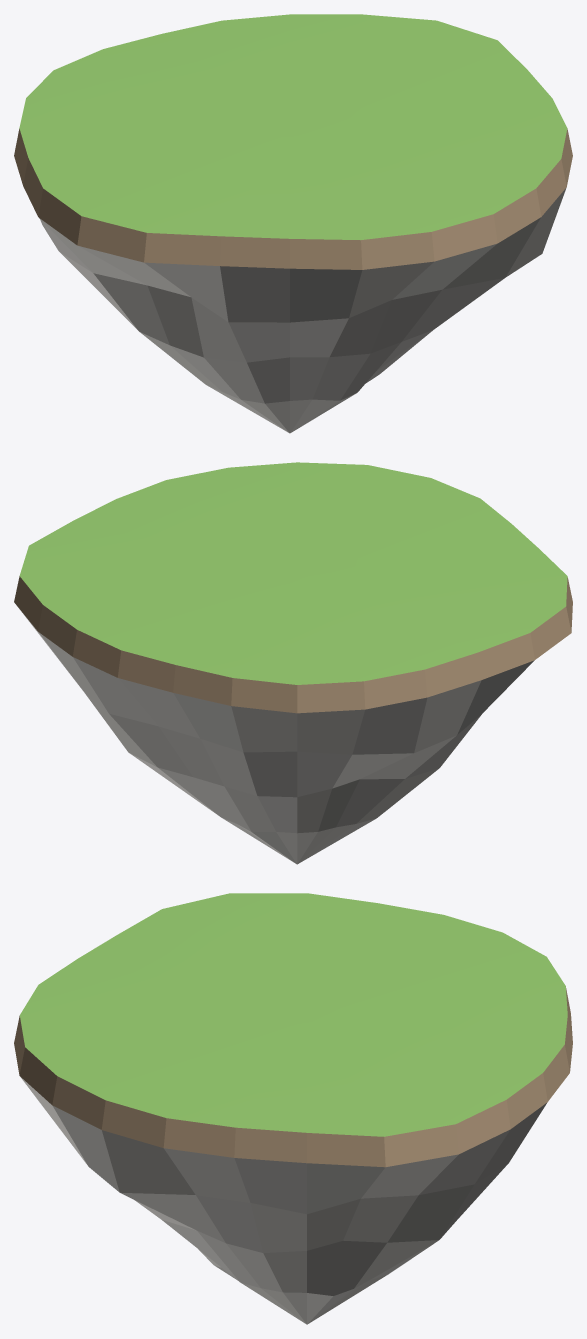
The model's file is FloatIsland_1.fbx.
The picture shows the model from 3 angles, top to bottom: view 1: azimuth 30°, elevation 25°; view 2: azimuth 150°, elevation 25°; view 3: azimuth 270°, elevation 25°; orthographic projection. The views are drawn at different scales.
Visible parts, largest first — view 1: FloatIsland_1; view 2: FloatIsland_1; view 3: FloatIsland_1.
Part boxes in pixels (x1,y1,x2,y2): FloatIsland_1: [14, 14, 572, 433]; FloatIsland_1: [14, 462, 572, 864]; FloatIsland_1: [14, 893, 572, 1324].
Size of the model in its own units: 6.66 by 3.92 by 6.33.
